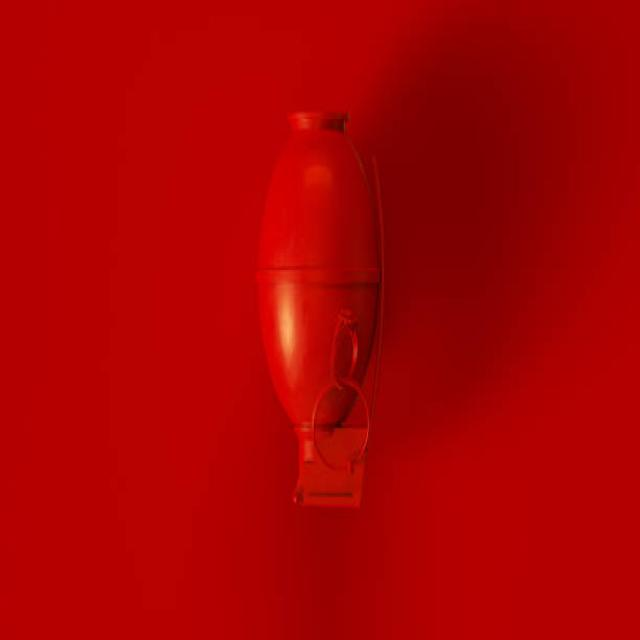grenade: (259, 94, 392, 520)
